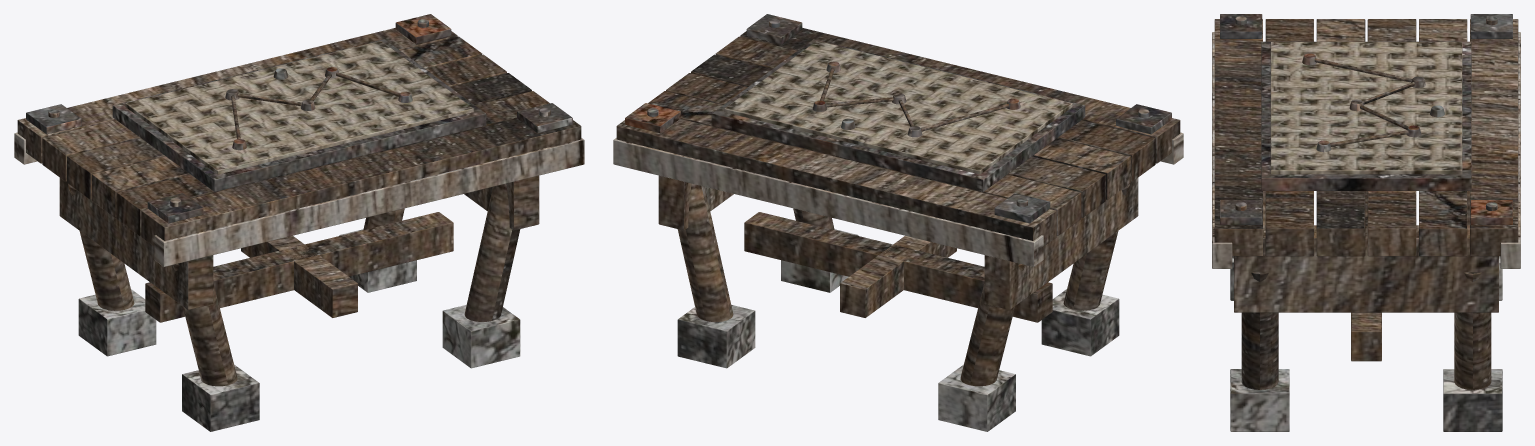
File: watchtower-command-table-v02.glb
3 views of the same model, side by side, from view 1: azimuth 30°, elevation 25°; view 2: azimuth 150°, elevation 25°; view 3: azimuth 270°, elevation 25° (orthographic). The views are drawn at different scales.
Parts seen in each view (by area): view 1: watchtower-command-table-v02; view 2: watchtower-command-table-v02; view 3: watchtower-command-table-v02.
Part boxes in pixels (x1=…): watchtower-command-table-v02: x1=14, y1=14, x2=584, y2=431; watchtower-command-table-v02: x1=613, y1=14, x2=1183, y2=431; watchtower-command-table-v02: x1=1212, y1=14, x2=1520, y2=431.
Bounding box in the file's own units: 2.12 × 1.19 × 1.31.
5 materials, 5 textured.
